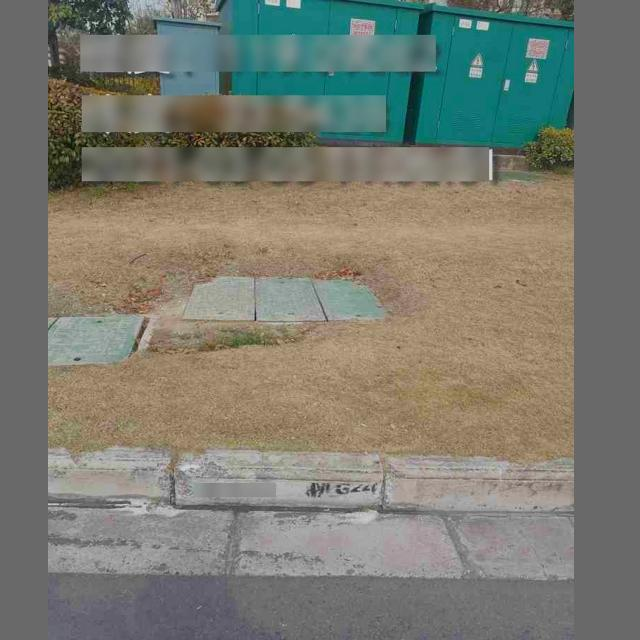good: (181, 270, 389, 323), (48, 314, 157, 365)
